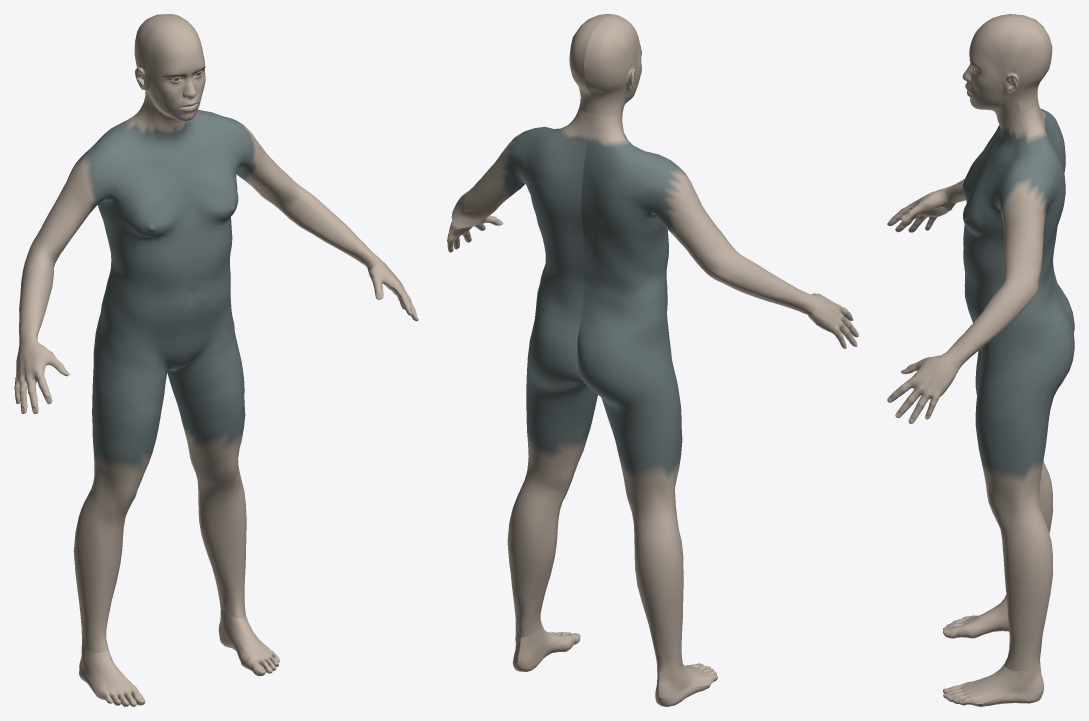
The model's file is fixed.glb.
3 renders of one model, left to right at view 1: azimuth 30°, elevation 25°; view 2: azimuth 150°, elevation 25°; view 3: azimuth 270°, elevation 25°, orthographic.
Parts seen in each view (by area): view 1: Body; view 2: Body; view 3: Body.
Boxes of the visible parts, x1,y1,x2,y2 form: Body: (14,14,418,706); Body: (447,14,858,706); Body: (887,14,1074,706).
Size of the model in its own units: 1.08 by 1.7 by 0.445.
